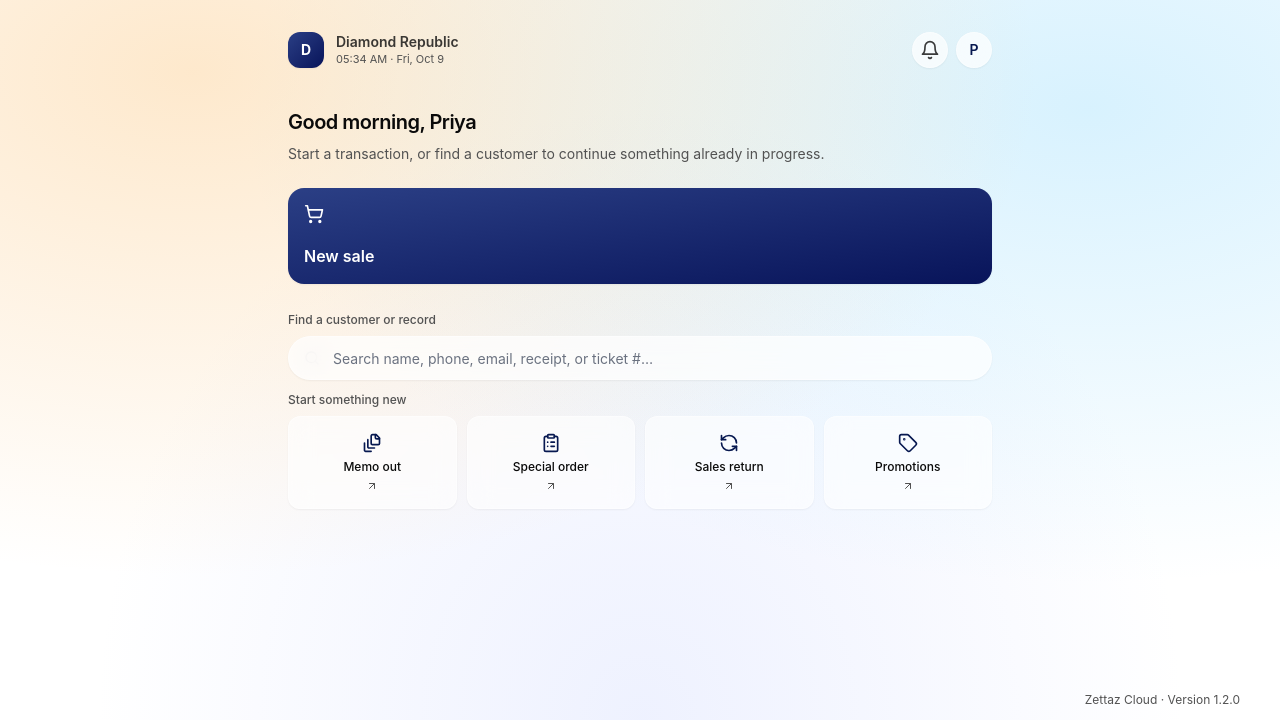
it: SalesHubPage › searches and renders a customer result with their open records
Step 1. Type "Priya" into the field with placeholder "Search name, phone, email, receipt, or ticket #…" → (640, 358), box [288,336,992,380]
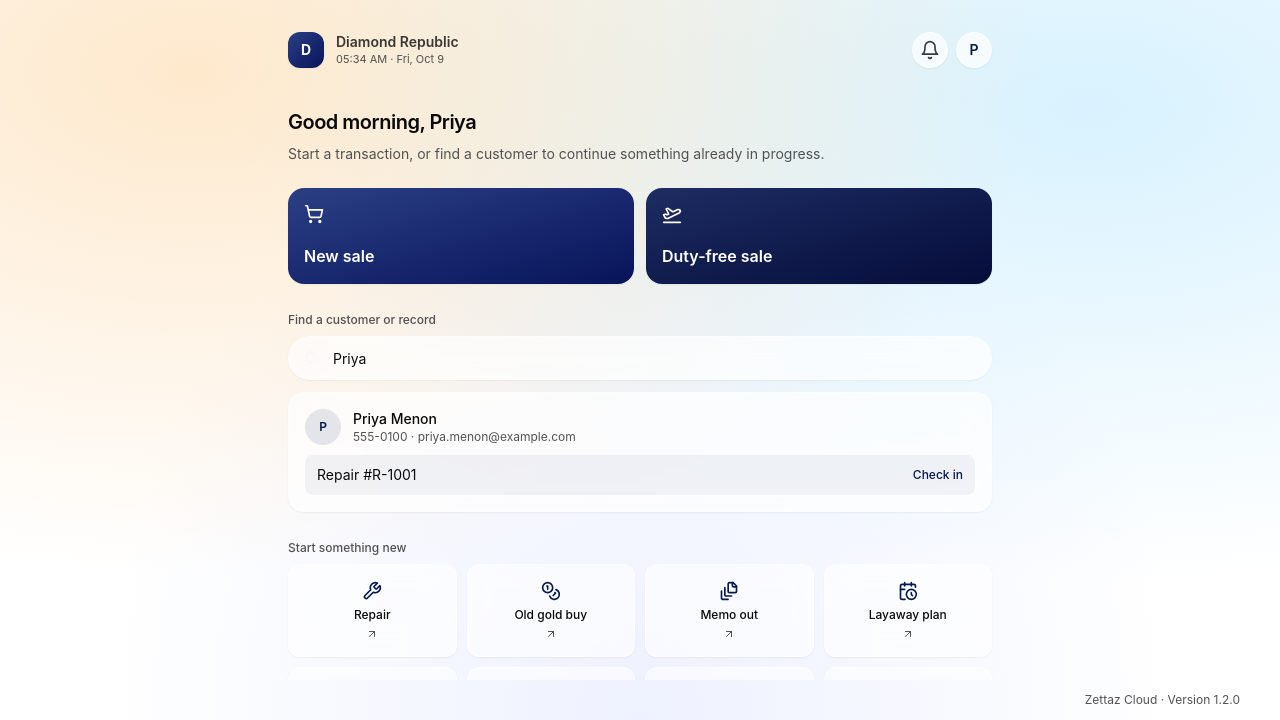
Now the text "Priya Menon" is shown, box [353,410,437,427]
Now the text "555-0100 · priya.menon@example.com" is shown, box [353,429,576,445]
Now the text "Repair #R-1001" is shown, box [317,465,416,485]
